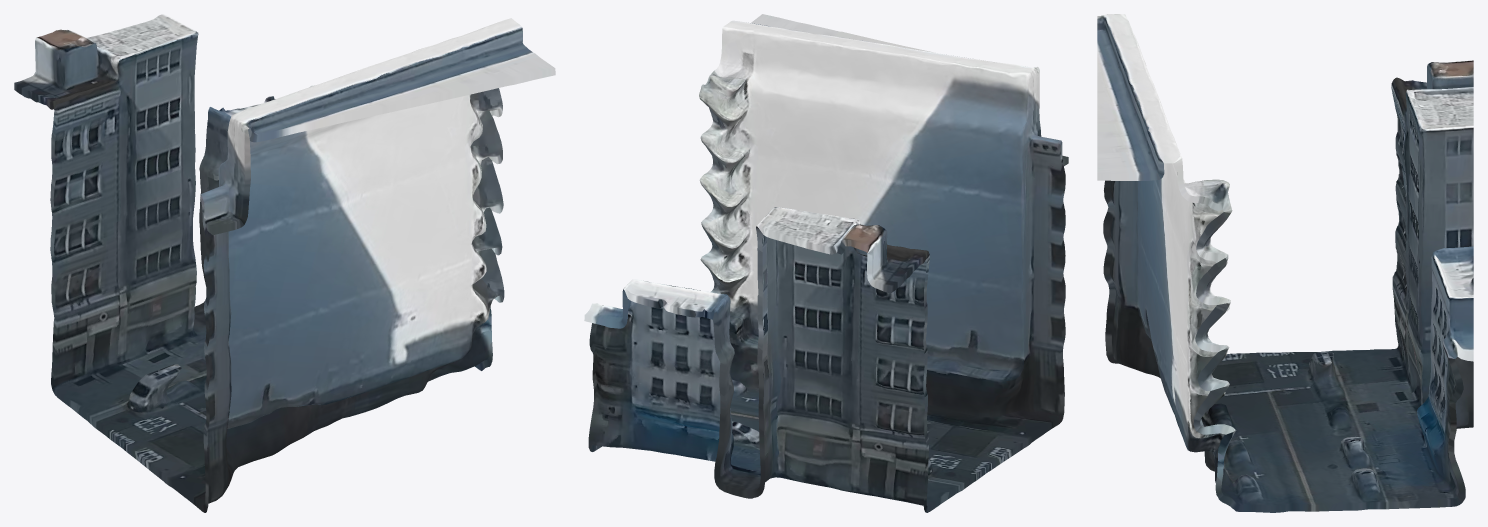
File: z20-167756-405243-h0-yup-uvflip-v3-world.glb
The picture shows the model from 3 angles, left to right: view 1: azimuth 30°, elevation 25°; view 2: azimuth 150°, elevation 25°; view 3: azimuth 270°, elevation 25°; orthographic projection. The views are drawn at different scales.
Bounding box in the file's own units: 30.2 × 32.52 × 30.32.
1 material, 1 textured.
